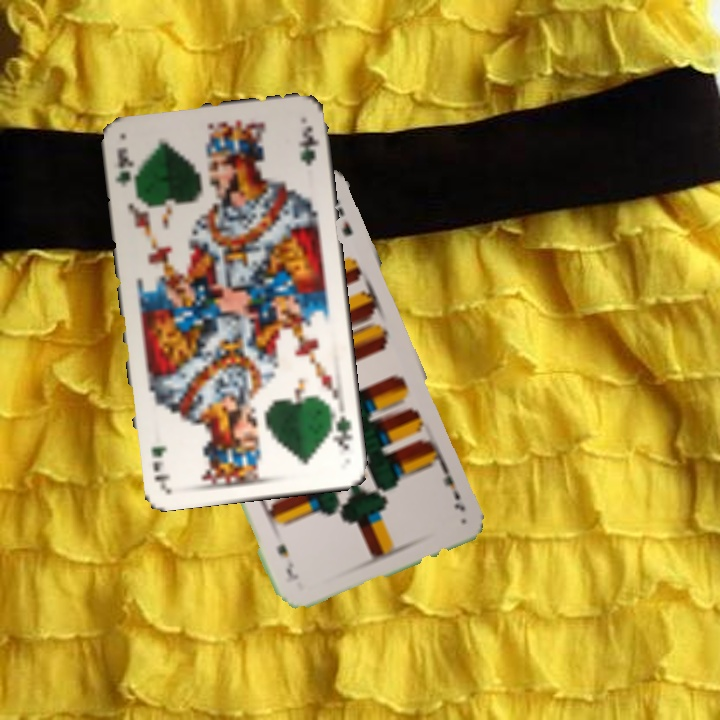E7: (437, 461, 468, 515)
GK: (329, 405, 356, 452), (112, 143, 137, 189)
